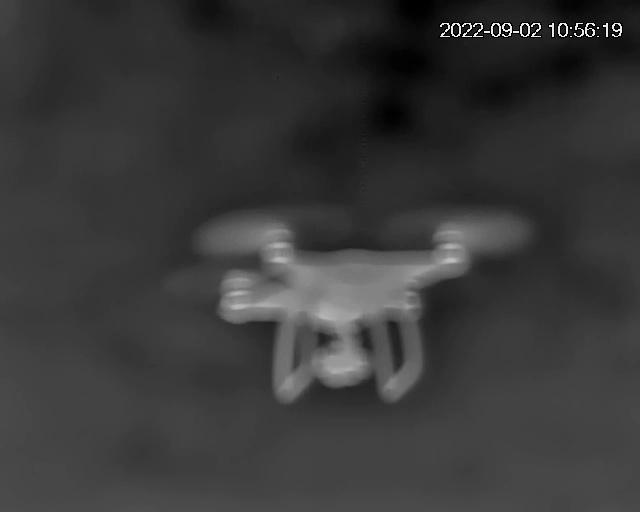DJI-Phantom: (202, 217, 510, 407)
